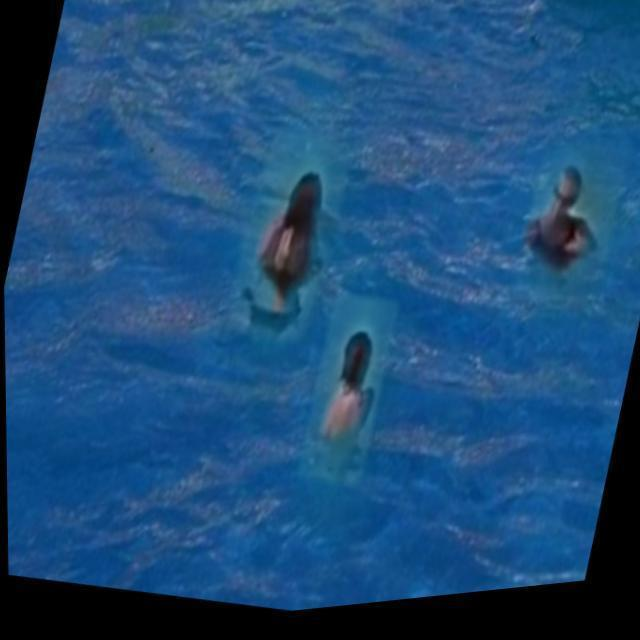swimming: (301, 301, 398, 486), (508, 154, 607, 273), (242, 155, 308, 326)
